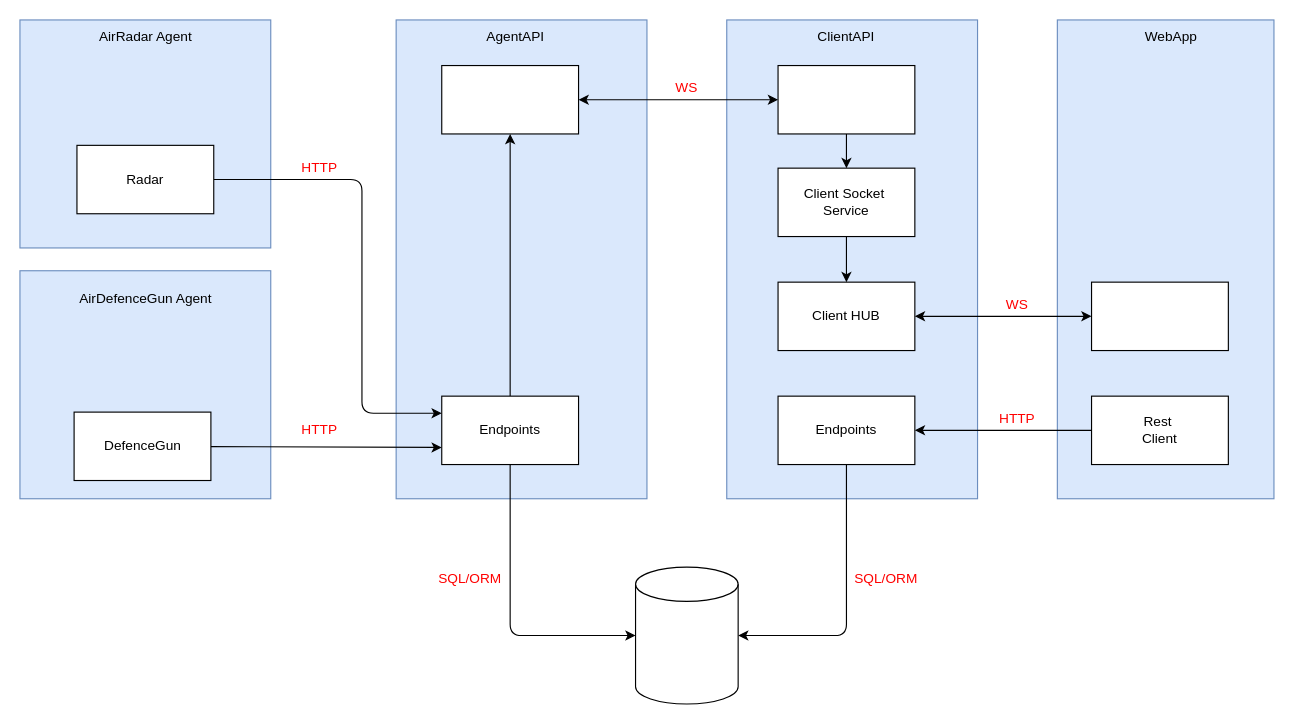
Some shapes in this 1294 by 724 pixel diagram are drawn without their labels. The box of each missing label's shape, as (x1, y1, x2, y2) in pixels:
Agent HUB: (777, 64, 915, 134)
Agent Socket Service: (441, 64, 579, 134)
OepnCMS DB: (634, 566, 738, 704)
WebSocket Client: (1090, 281, 1228, 351)
